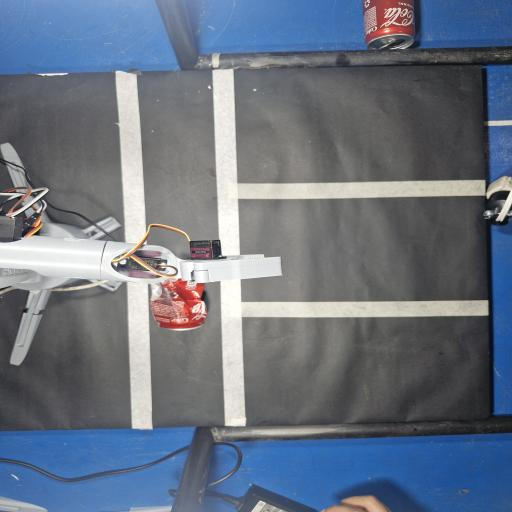lata_defectuoso: (150, 279, 207, 330)
